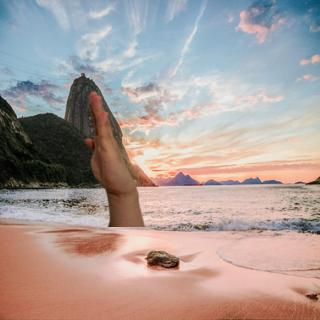RIGHT: (81, 88, 139, 199)
